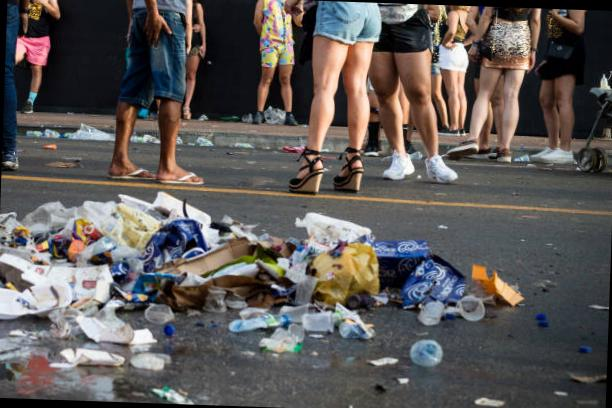trash: (0, 182, 237, 334), (376, 247, 474, 344), (302, 228, 390, 317), (215, 216, 300, 276), (284, 209, 388, 256), (362, 232, 435, 290), (208, 270, 302, 311), (462, 258, 524, 313), (389, 332, 453, 374), (219, 303, 297, 335), (335, 301, 380, 344), (143, 378, 214, 404), (262, 323, 306, 362), (65, 343, 119, 373), (305, 301, 336, 342), (562, 363, 602, 391), (148, 322, 192, 346), (132, 346, 176, 370), (360, 346, 399, 371), (123, 325, 155, 353), (575, 292, 609, 312), (465, 391, 505, 408), (532, 306, 552, 332), (574, 340, 595, 362), (367, 380, 392, 396), (386, 374, 412, 387)
